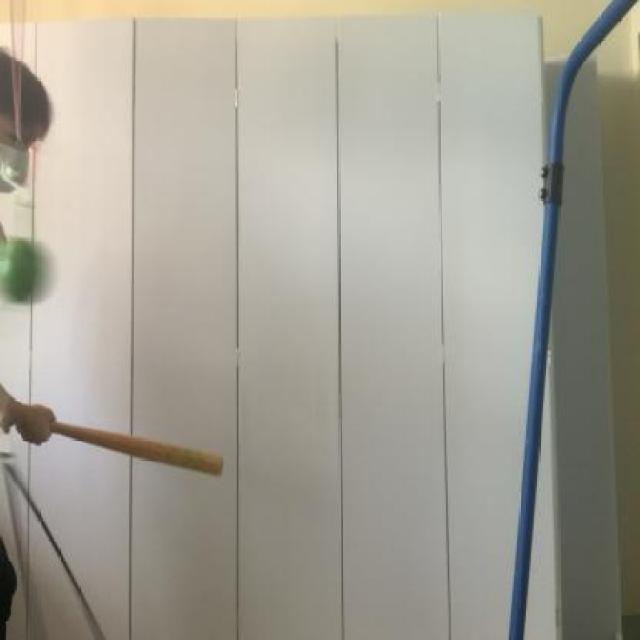baseball: (0, 234, 57, 312)
